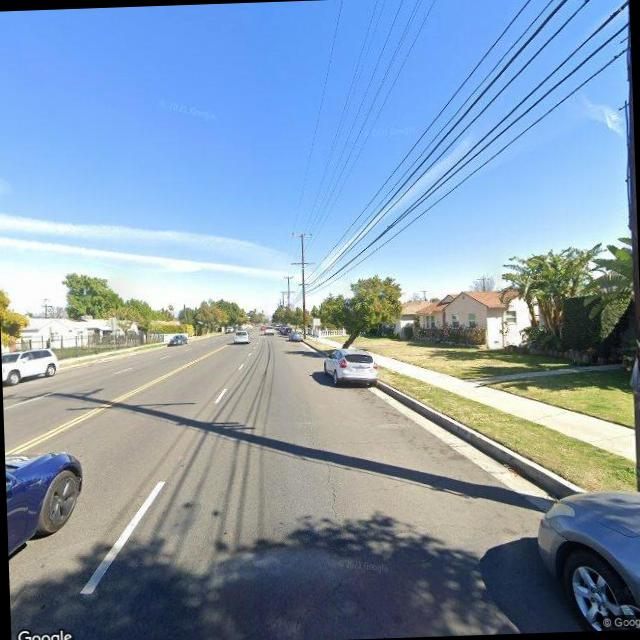pothole: (314, 431, 347, 524)
